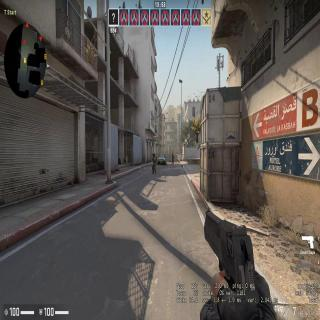CT-Body: (151, 152, 157, 174), (171, 152, 175, 165)
CT-Head: (152, 153, 155, 156), (172, 152, 173, 154)
